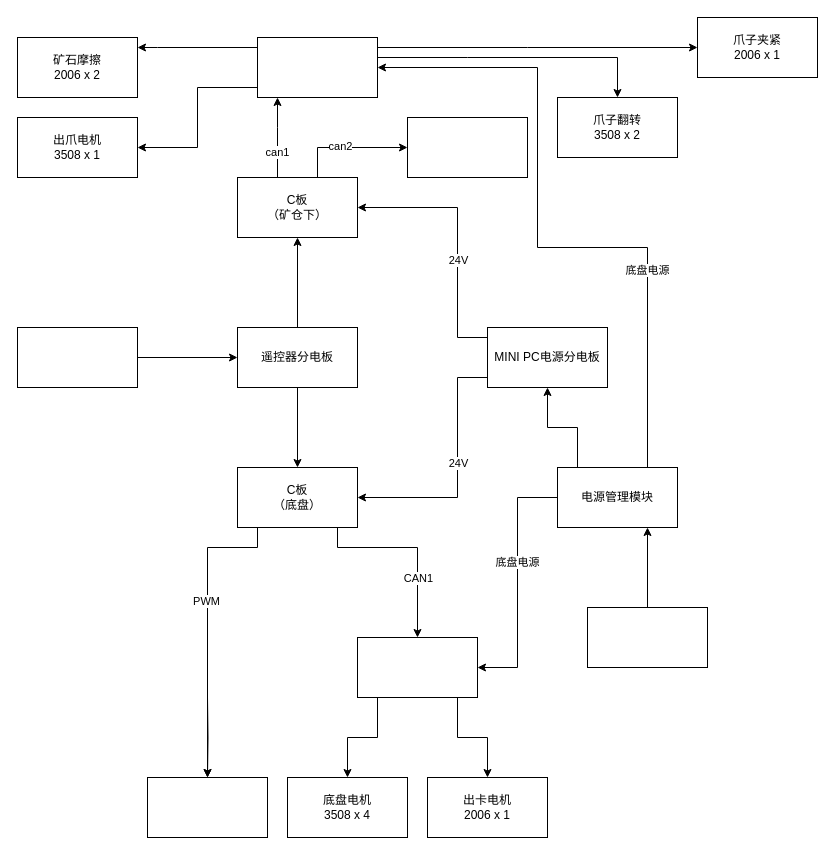
The diagram is 835 pixels wide and 855 high, and some of its shapes have lost their labels. Each missing label, with the box of its shape:
官方电池24V: (586, 606, 708, 668)
底盘中心板: (356, 636, 478, 698)
抬升 3508 x 2: (406, 116, 528, 178)
救援 舵机 x 2: (146, 776, 268, 838)
遥控器接收器: (16, 326, 138, 388)
顶部中心板: (256, 36, 378, 98)
